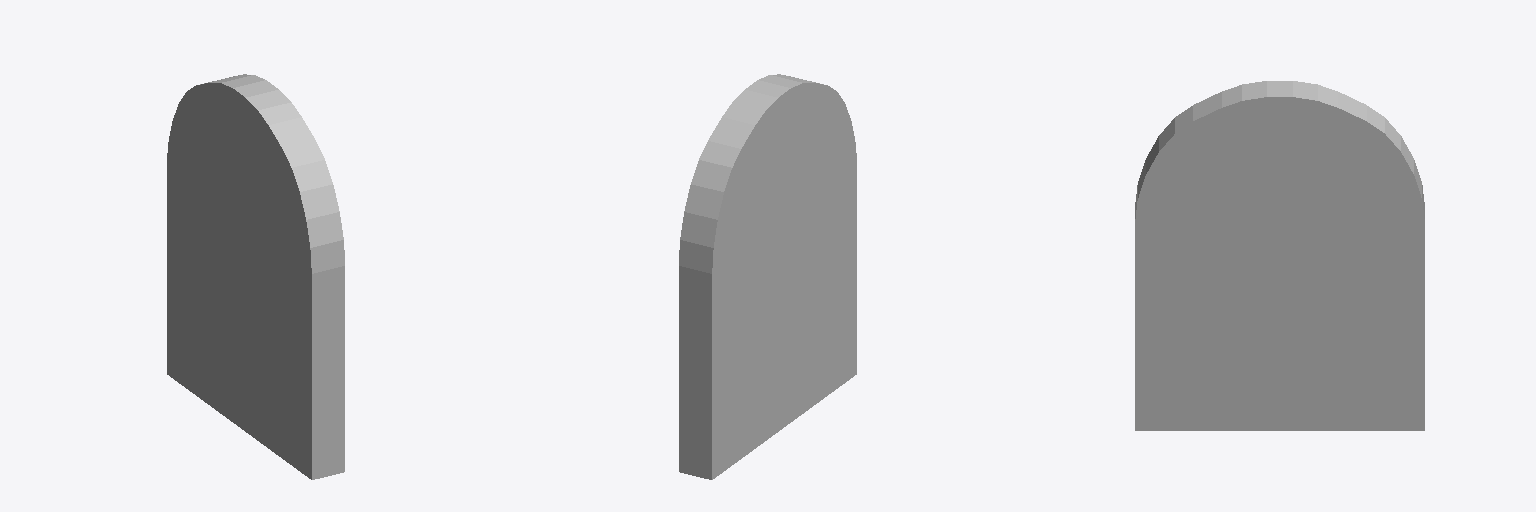
File: RIP2.obj
3 renders of one model, left to right at view 1: azimuth 30°, elevation 25°; view 2: azimuth 150°, elevation 25°; view 3: azimuth 270°, elevation 25°, orthographic.
Visible parts, largest first — view 1: Cube_Cube.001; view 2: Cube_Cube.001; view 3: Cube_Cube.001.
Boxes of the visible parts, x1=… form: Cube_Cube.001: x1=167, y1=74, x2=344, y2=479; Cube_Cube.001: x1=679, y1=74, x2=856, y2=479; Cube_Cube.001: x1=1135, y1=81, x2=1424, y2=430.
Size of the model in its own units: 0.2 by 1.91 by 1.5.